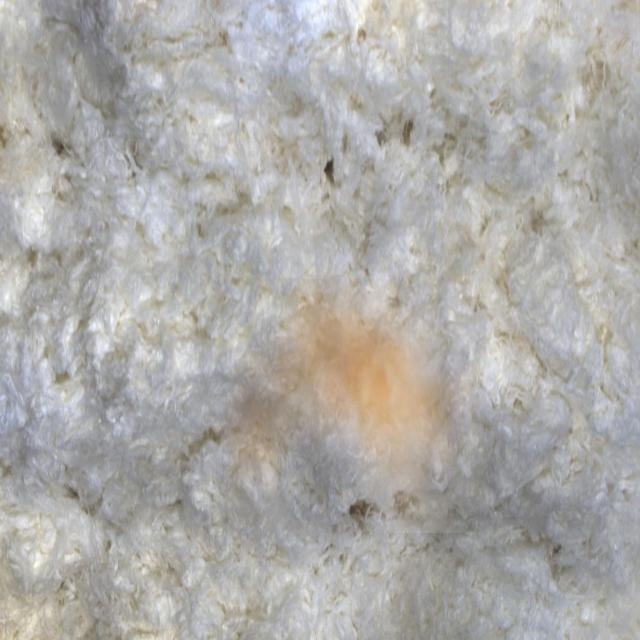dust: (222, 279, 486, 533)
